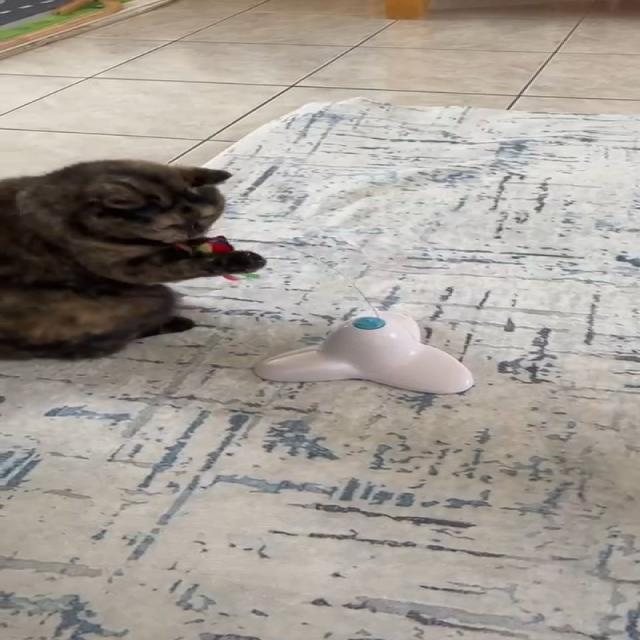authorized: (0, 158, 267, 360)
